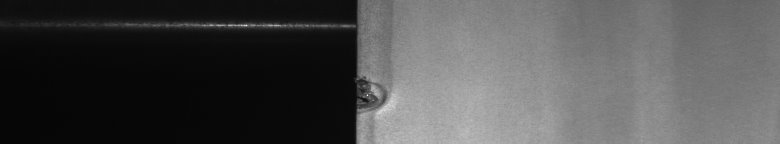hb: (368, 68, 397, 136)
